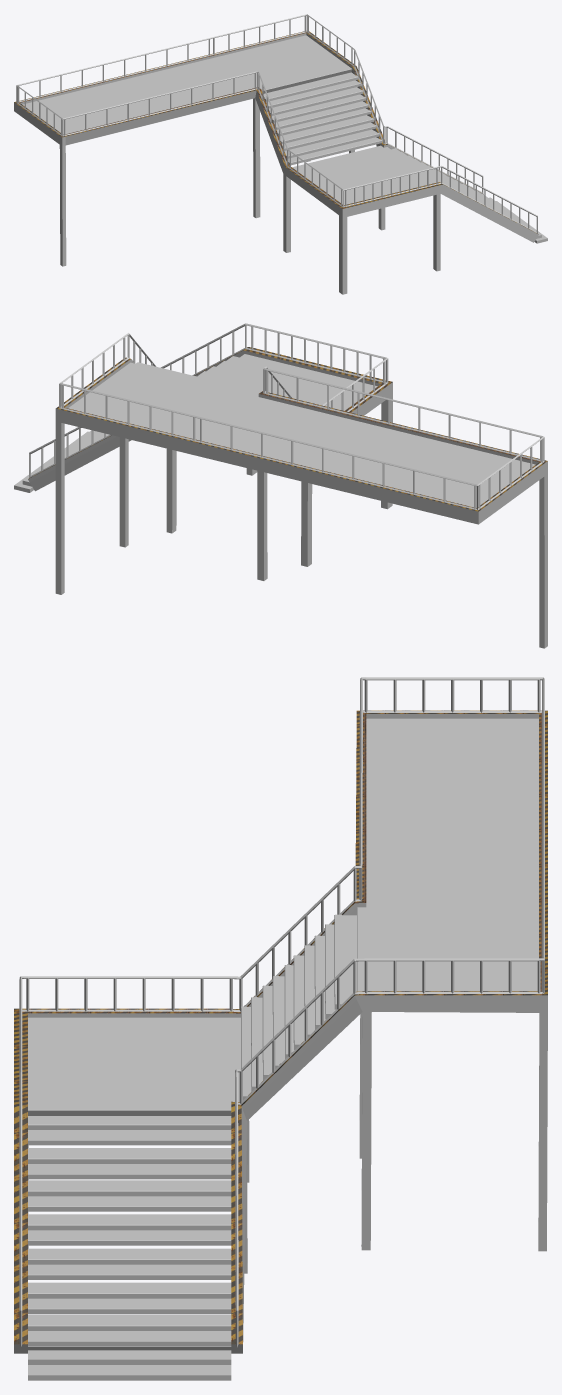
Rendered from STAIRS_PLATFORM.fbx.
3 views of the same model, one above another, from view 1: azimuth 30°, elevation 25°; view 2: azimuth 150°, elevation 25°; view 3: azimuth 270°, elevation 25° (orthographic). The views are drawn at different scales.
Parts seen in each view (by area): view 1: Plane.001; view 2: Plane.001; view 3: Plane.001.
Boxes of the visible parts, box(x1,y1,x2,y2) form: Plane.001: box(14, 14, 547, 294); Plane.001: box(14, 323, 547, 648); Plane.001: box(14, 677, 547, 1380).
Size of the model in its own units: 806 by 304 by 466.
